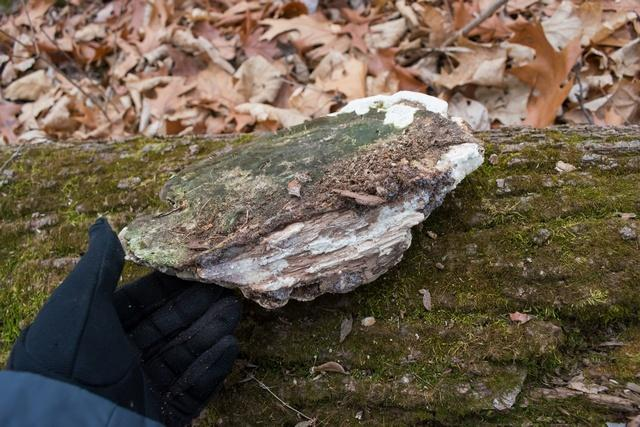poisonous_mushroom: (116, 89, 485, 310)
